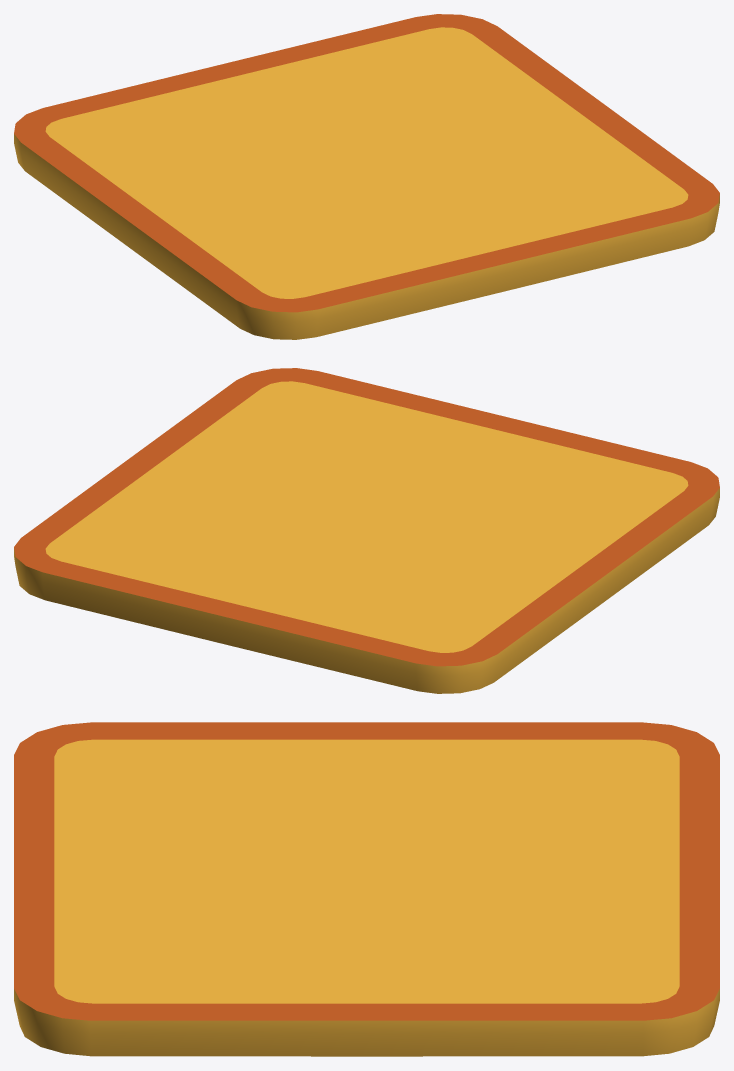
The model's file is zemin.fbx.
3 renders of one model, top to bottom at view 1: azimuth 30°, elevation 25°; view 2: azimuth 150°, elevation 25°; view 3: azimuth 270°, elevation 25°, orthographic. The views are drawn at different scales.
Parts seen in each view (by area): view 1: Cube.001; view 2: Cube.001; view 3: Cube.001.
Part boxes in pixels (bbox=[...]): Cube.001: bbox=[14, 14, 719, 339]; Cube.001: bbox=[14, 368, 719, 693]; Cube.001: bbox=[14, 722, 719, 1056].
Size of the model in its own units: 1.77 by 0.121 by 1.77.
